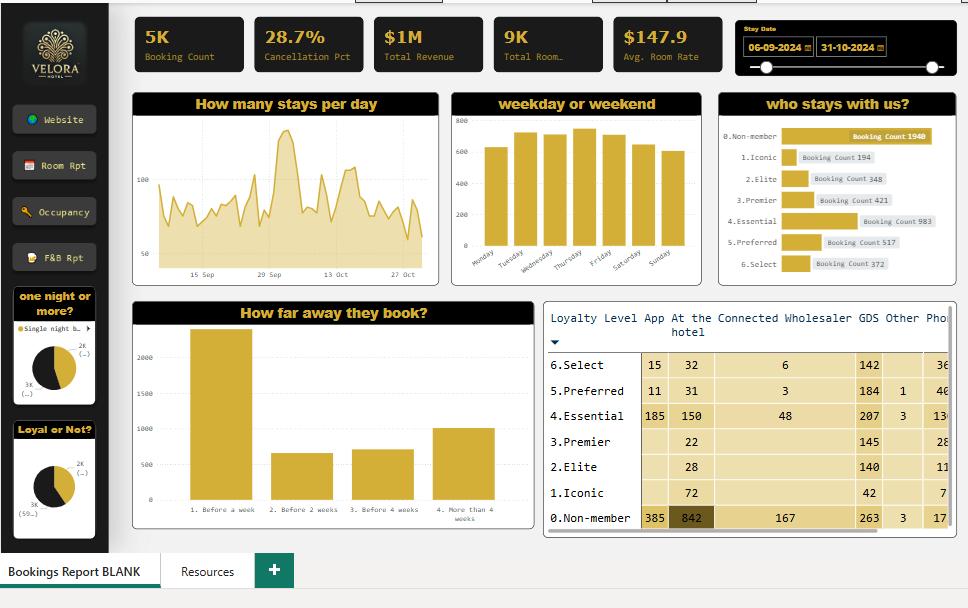

Layout of this report page (visuals, bound fields, positions):
{"tool":"powerbi","page":{"name":"Bookings Report BLANK","canvas":[1920,1080],"ordinal":0},"visuals":[{"type":"cardVisual","fields":{"Data":["bookings.Booking Count","bookings.Cancellation Pct","bookings.Total Revenue","bookings.Total Room Nights","bookings.Avg. Room Rate"]},"box":[258,22,1168,120],"z":0},{"type":"lineChart","title":"How many stays per day","fields":{"Category":["bookings.Stay Date"],"Y":["bookings.Booking Count"]},"box":[257.5,175,602.5,380],"z":1000},{"type":"slicer","fields":{"Values":["bookings.Stay Date"]},"box":[1440.7,32.4,436.3,110.2],"z":2000},{"type":"clusteredColumnChart","title":"weekday or weekend","fields":{"Category":["bookings.Day Name"],"Y":["bookings.Booking Count"]},"box":[884,174,492,380],"z":3000},{"type":"barChart","title":"who stays with us?","fields":{"Category":["bookings.Loyalty Level"],"Y":["bookings.Booking Count"]},"box":[1408,174,468,380],"z":4000},{"type":"columnChart","title":"How far away they book?","fields":{"Category":["bookings.How far away bucket"],"Y":["bookings.Booking Count"]},"box":[257.5,585,790,447.5],"z":5000},{"type":"pivotTable","fields":{"Rows":["bookings.Loyalty Level"],"Columns":["bookings.Booking Channel"],"Values":["bookings.Booking Count"]},"box":[1065,585,812.5,465],"z":6000},{"type":"pieChart","title":"one night or more?","fields":{"Y":["bookings.Single night booking count","bookings.Multi-night booking count"]},"box":[24,556,162,234],"z":7000},{"type":"pieChart","title":"Loyal or Not?","fields":{"Y":["bookings.Not Loyal Customer Booking Count","bookings.Loyal Customer Booking Count"]},"box":[24,818,162,234],"z":8000}]}

Visuals, with their boxes on the page's 1920x1080 design canvas (x1, y1, x2, y2). These are canvas units, not pixel positions in the 968x608 screenshot, which may show the page scaled, cropped or inside an application window:
cardVisual - bookings.Booking Count x bookings.Cancellation Pct: {"x1": 258, "y1": 22, "x2": 1426, "y2": 142}
"How many stays per day" lineChart: {"x1": 258, "y1": 175, "x2": 860, "y2": 555}
slicer - bookings.Stay Date: {"x1": 1441, "y1": 32, "x2": 1877, "y2": 143}
"weekday or weekend" clusteredColumnChart: {"x1": 884, "y1": 174, "x2": 1376, "y2": 554}
"who stays with us?" barChart: {"x1": 1408, "y1": 174, "x2": 1876, "y2": 554}
"How far away they book?" columnChart: {"x1": 258, "y1": 585, "x2": 1048, "y2": 1032}
pivotTable - bookings.Loyalty Level x bookings.Booking Channel: {"x1": 1065, "y1": 585, "x2": 1878, "y2": 1050}
"one night or more?" pieChart: {"x1": 24, "y1": 556, "x2": 186, "y2": 790}
"Loyal or Not?" pieChart: {"x1": 24, "y1": 818, "x2": 186, "y2": 1052}
